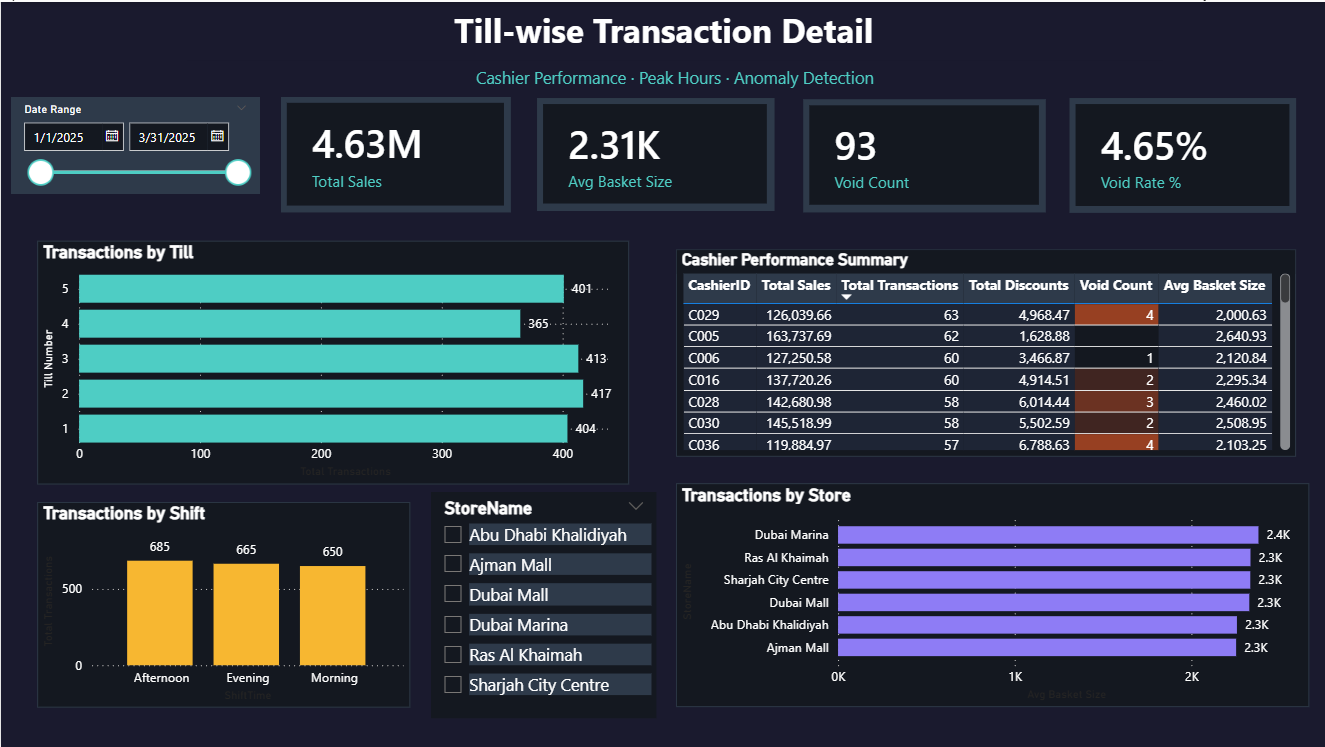

The dashboard page shown, as its layout file describes it:
{"tool":"powerbi","page":{"name":"Till-wise Detail","canvas":[1280,720],"ordinal":4},"visuals":[{"type":"textbox","box":[10,0,1260,56.2],"z":0},{"type":"textbox","box":[180,56.2,941.2,68.8],"z":1000},{"type":"clusteredBarChart","title":"Transactions by Till","fields":{"Category":["UAE_Retail_Transactions.TillNumber"],"Y":["_Measures.Total Transactions"]},"box":[35,230,571.2,235],"z":5000},{"type":"tableEx","title":"Cashier Performance Summary","fields":{"Values":["UAE_Retail_Transactions.CashierID","_Measures.Total Sales","_Measures.Total Transactions","_Measures.Total Discounts","_Measures.Void Count","_Measures.Avg Basket Size"]},"box":[651.2,238.8,598.8,200],"z":6000},{"type":"clusteredColumnChart","title":"Transactions by Shift","fields":{"Category":["UAE_Retail_Transactions.ShiftTime"],"Y":["_Measures.Total Transactions"]},"box":[35,482.5,360,198.8],"z":7000},{"type":"clusteredBarChart","title":"Transactions by Store","fields":{"Category":["UAE_Retail_Transactions.StoreName"],"Y":["_Measures.Avg Basket Size"]},"box":[651.2,465,611.2,216.2],"z":8000},{"type":"slicer","fields":{"Values":["UAE_Retail_Transactions.StoreName"]},"box":[415,472.5,217.5,218.8],"z":9000},{"type":"slicer","fields":{"Values":["DateTable.Date"]},"box":[10,91.2,240,92.5],"z":10000},{"type":"cardVisual","fields":{"Data":["_Measures.Total Sales"]},"box":[270,91.2,221.2,111.2],"z":11000},{"type":"cardVisual","fields":{"Data":["_Measures.Avg Basket Size"]},"box":[517.5,92.5,228.8,108.8],"z":11001},{"type":"cardVisual","fields":{"Data":["_Measures.Void Count"]},"box":[775,93.8,233.8,108.8],"z":11002},{"type":"cardVisual","fields":{"Data":["_Measures.Void Rate %"]},"box":[1031.2,92.5,218.8,110],"z":11003}]}

Visuals, with their boxes in screenshot pixels (x1, y1, x2, y2), scaled from the page's 1280x720 canvas onto the 1325x747 screenshot:
textbox: <bbox>10, 0, 1315, 58</bbox>
textbox: <bbox>186, 58, 1161, 130</bbox>
"Transactions by Till" clusteredBarChart: <bbox>36, 239, 628, 482</bbox>
"Cashier Performance Summary" tableEx: <bbox>674, 248, 1294, 455</bbox>
"Transactions by Shift" clusteredColumnChart: <bbox>36, 501, 409, 707</bbox>
"Transactions by Store" clusteredBarChart: <bbox>674, 482, 1307, 707</bbox>
slicer - UAE_Retail_Transactions.StoreName: <bbox>430, 490, 655, 717</bbox>
slicer - DateTable.Date: <bbox>10, 95, 259, 191</bbox>
cardVisual - _Measures.Total Sales: <bbox>279, 95, 508, 210</bbox>
cardVisual - _Measures.Avg Basket Size: <bbox>536, 96, 773, 209</bbox>
cardVisual - _Measures.Void Count: <bbox>802, 97, 1044, 210</bbox>
cardVisual - _Measures.Void Rate %: <bbox>1067, 96, 1294, 210</bbox>
